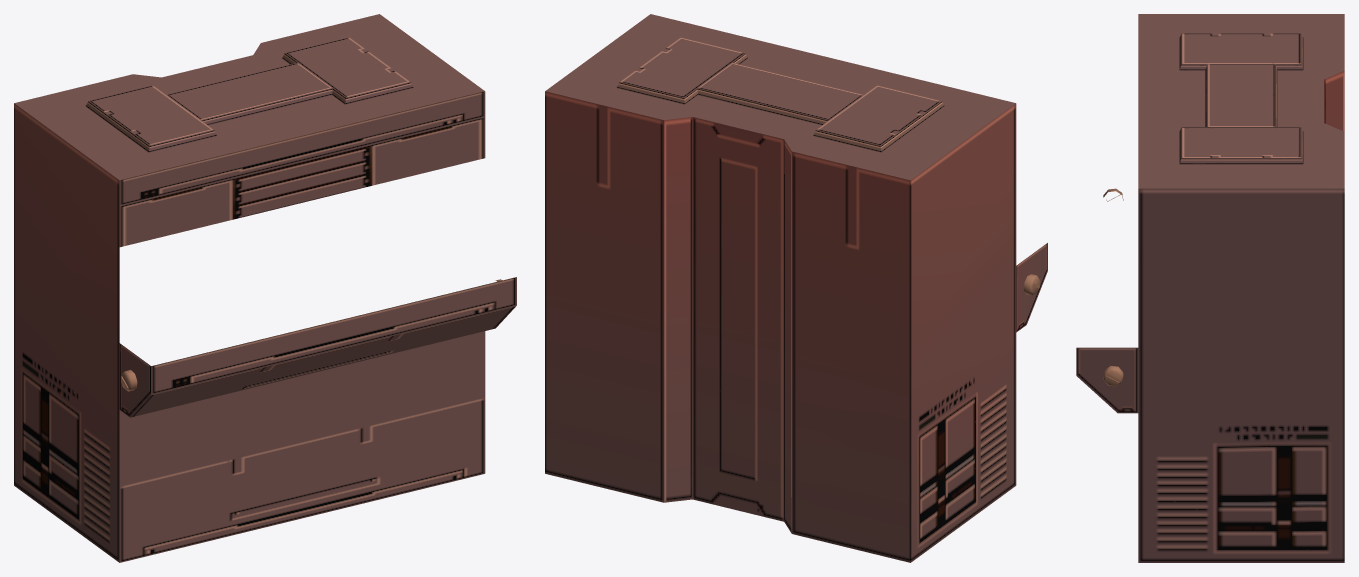
3 renders of one model, left to right at view 1: azimuth 30°, elevation 25°; view 2: azimuth 150°, elevation 25°; view 3: azimuth 270°, elevation 25°, orthographic. The views are drawn at different scales.
Parts seen in each view (by area): view 1: Joint_0_Object_0; view 2: Joint_0_Object_0; view 3: Joint_0_Object_0, Joint_0_Object_1.
Boxes of the visible parts, x1=… form: Joint_0_Object_0: x1=14, y1=14, x2=516, y2=562; Joint_0_Object_0: x1=545, y1=14, x2=1047, y2=562; Joint_0_Object_0: x1=1076, y1=14, x2=1344, y2=562; Joint_0_Object_1: x1=1103, y1=188, x2=1123, y2=386.
Bounding box in the file's own units: 1040 × 1015 × 650.
Materials: 2 (2 with a texture image).
